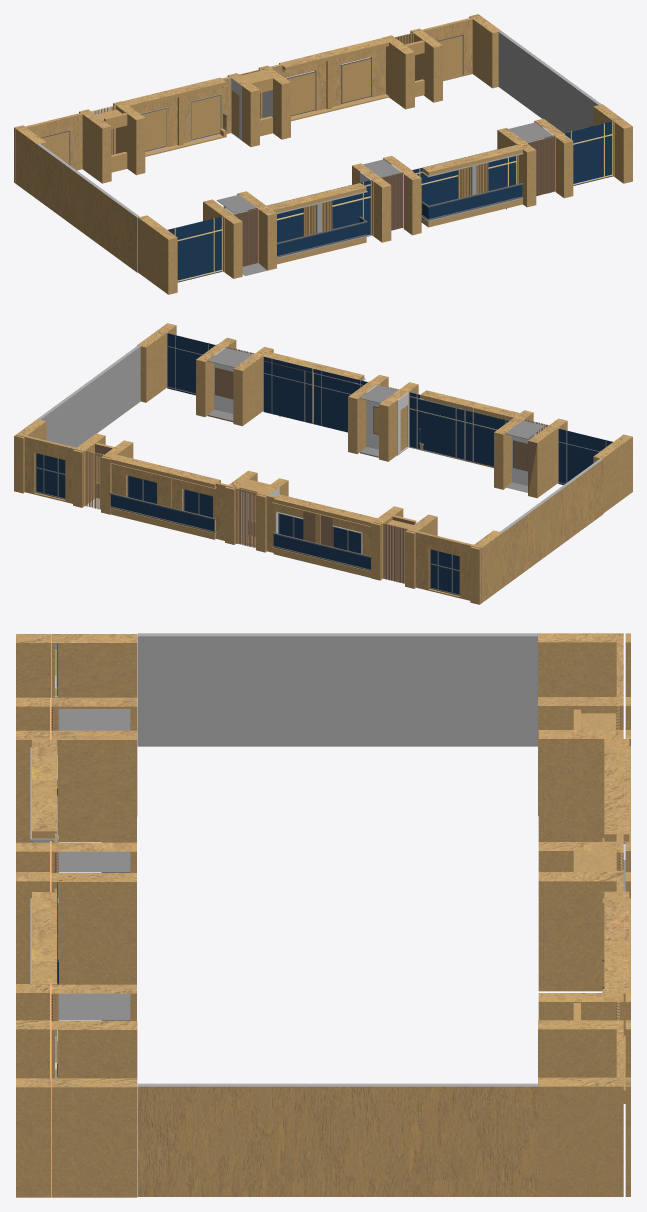
Rendered from thirdfloor.compressed.glb.
The picture shows the model from 3 angles, top to bottom: view 1: azimuth 30°, elevation 25°; view 2: azimuth 150°, elevation 25°; view 3: azimuth 270°, elevation 25°; orthographic projection. The views are drawn at different scales.
Parts seen in each view (by area): view 1: THIRD FLOOR; view 2: THIRD FLOOR; view 3: THIRD FLOOR.
Boxes of the visible parts, bbox=[...] form: THIRD FLOOR: bbox=[14, 14, 632, 294]; THIRD FLOOR: bbox=[14, 323, 632, 604]; THIRD FLOOR: bbox=[16, 633, 630, 1197].
Size of the model in its own units: 11.1 by 1.34 by 6.36.
Materials: 10 (1 with a texture image).
